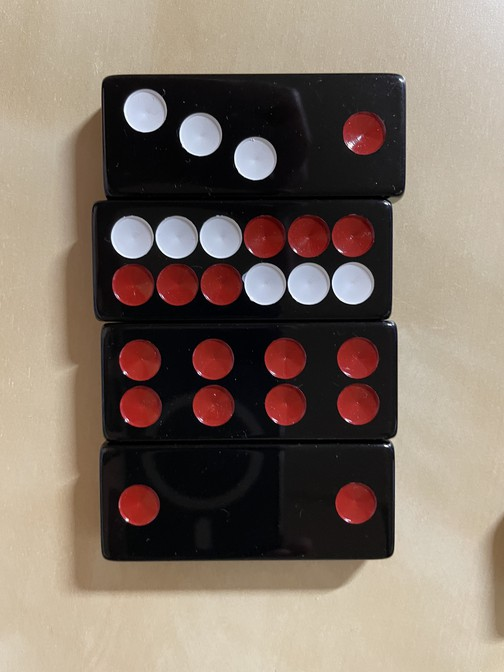earth: (98, 445, 395, 559)
goose: (104, 77, 407, 197)
heaven: (94, 201, 393, 318)
man: (100, 325, 397, 441)
